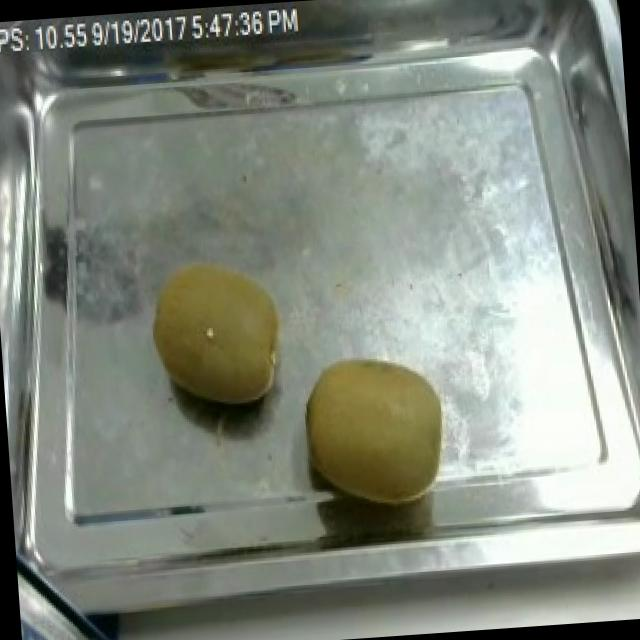Fruit: (290, 341, 462, 520), (141, 245, 294, 416)
